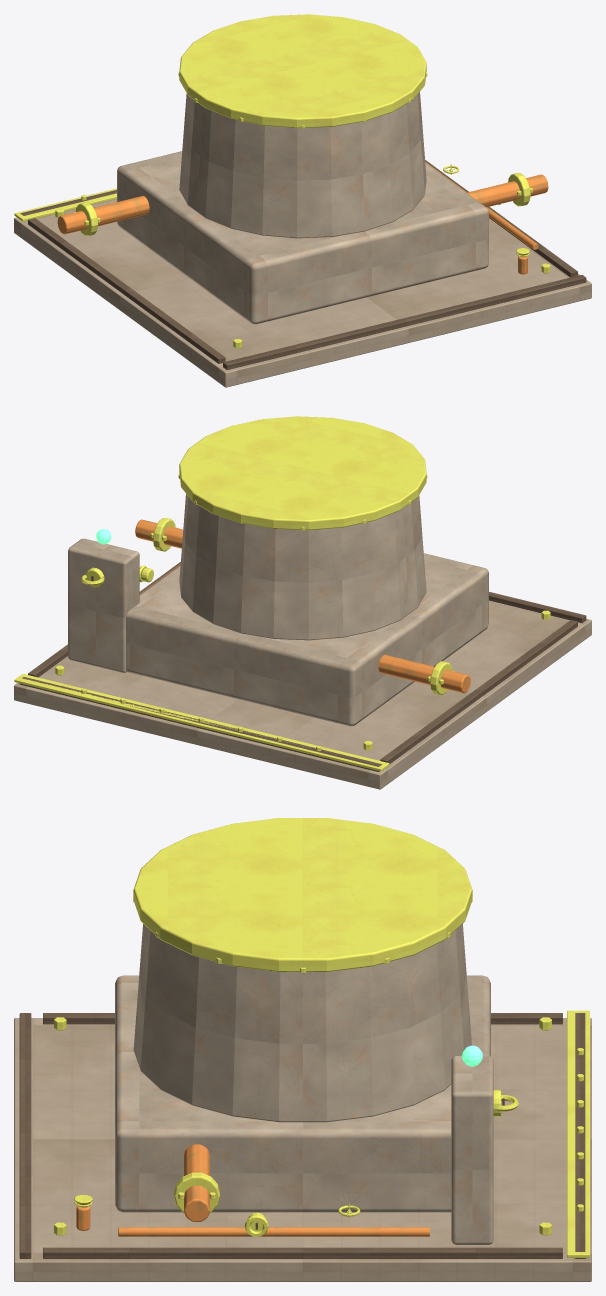
The model's file is ff-centrifuge.glb.
3 views of the same model, one above another, from view 1: azimuth 30°, elevation 25°; view 2: azimuth 150°, elevation 25°; view 3: azimuth 270°, elevation 25° (orthographic). The views are drawn at different scales.
Parts seen in each view (by area): view 1: Pad.015, Base.004, Casing, Bolt.023, PadLipN.015, PadPipe.015, GaugeBoss.011; view 2: Casing, Base.004, Pad.015, Bolt.023, PadLipN.015, GaugeBoss.011, PadPipe.015; view 3: Pad.015, Casing, Bolt.023, Base.004, PadLipN.015, PadPipe.015, GaugeBoss.011, VentLip.017.
Part boxes in pixels (<box>): Pad.015: <box>14,199,591,387</box>; Base.004: <box>117,151,488,324</box>; Casing: <box>179,92,426,238</box>; Bolt.023: <box>55,14,550,348</box>; PadLipN.015: <box>20,160,586,369</box>; PadPipe.015: <box>57,162,548,274</box>; GaugeBoss.011: <box>14,168,452,221</box>; Casing: <box>68,494,426,672</box>; Base.004: <box>126,553,488,726</box>; Pad.015: <box>14,600,591,789</box>; Bolt.023: <box>55,416,550,751</box>; PadLipN.015: <box>19,562,586,771</box>; GaugeBoss.011: <box>14,674,389,771</box>; PadPipe.015: <box>135,519,470,693</box>; Pad.015: <box>14,1018,591,1281</box>; Casing: <box>133,924,493,1244</box>; Bolt.023: <box>54,818,583,1235</box>; Base.004: <box>115,975,490,1212</box>; PadLipN.015: <box>19,1013,585,1258</box>; PadPipe.015: <box>76,1144,429,1236</box>; GaugeBoss.011: <box>347,1010,589,1257</box>; VentLip.017: <box>74,1095,518,1236</box>.
Size of the model in its own units: 3.31 by 1.56 by 3.
Materials: 10 (8 with a texture image).
